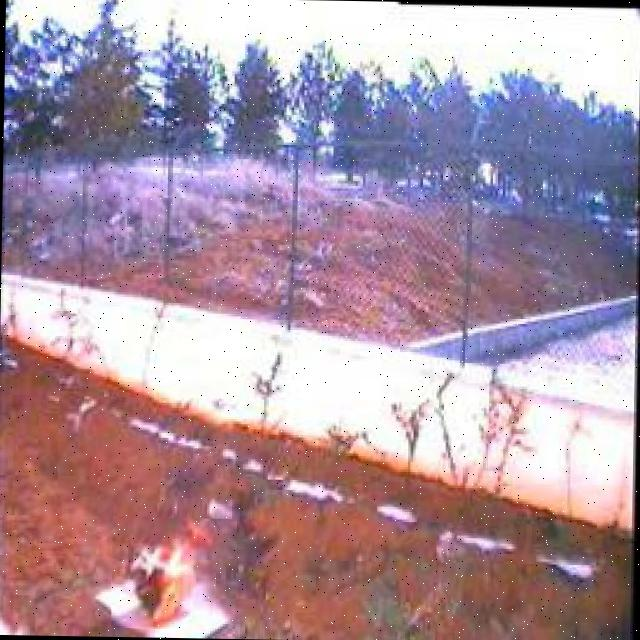fire: (110, 516, 214, 630)
